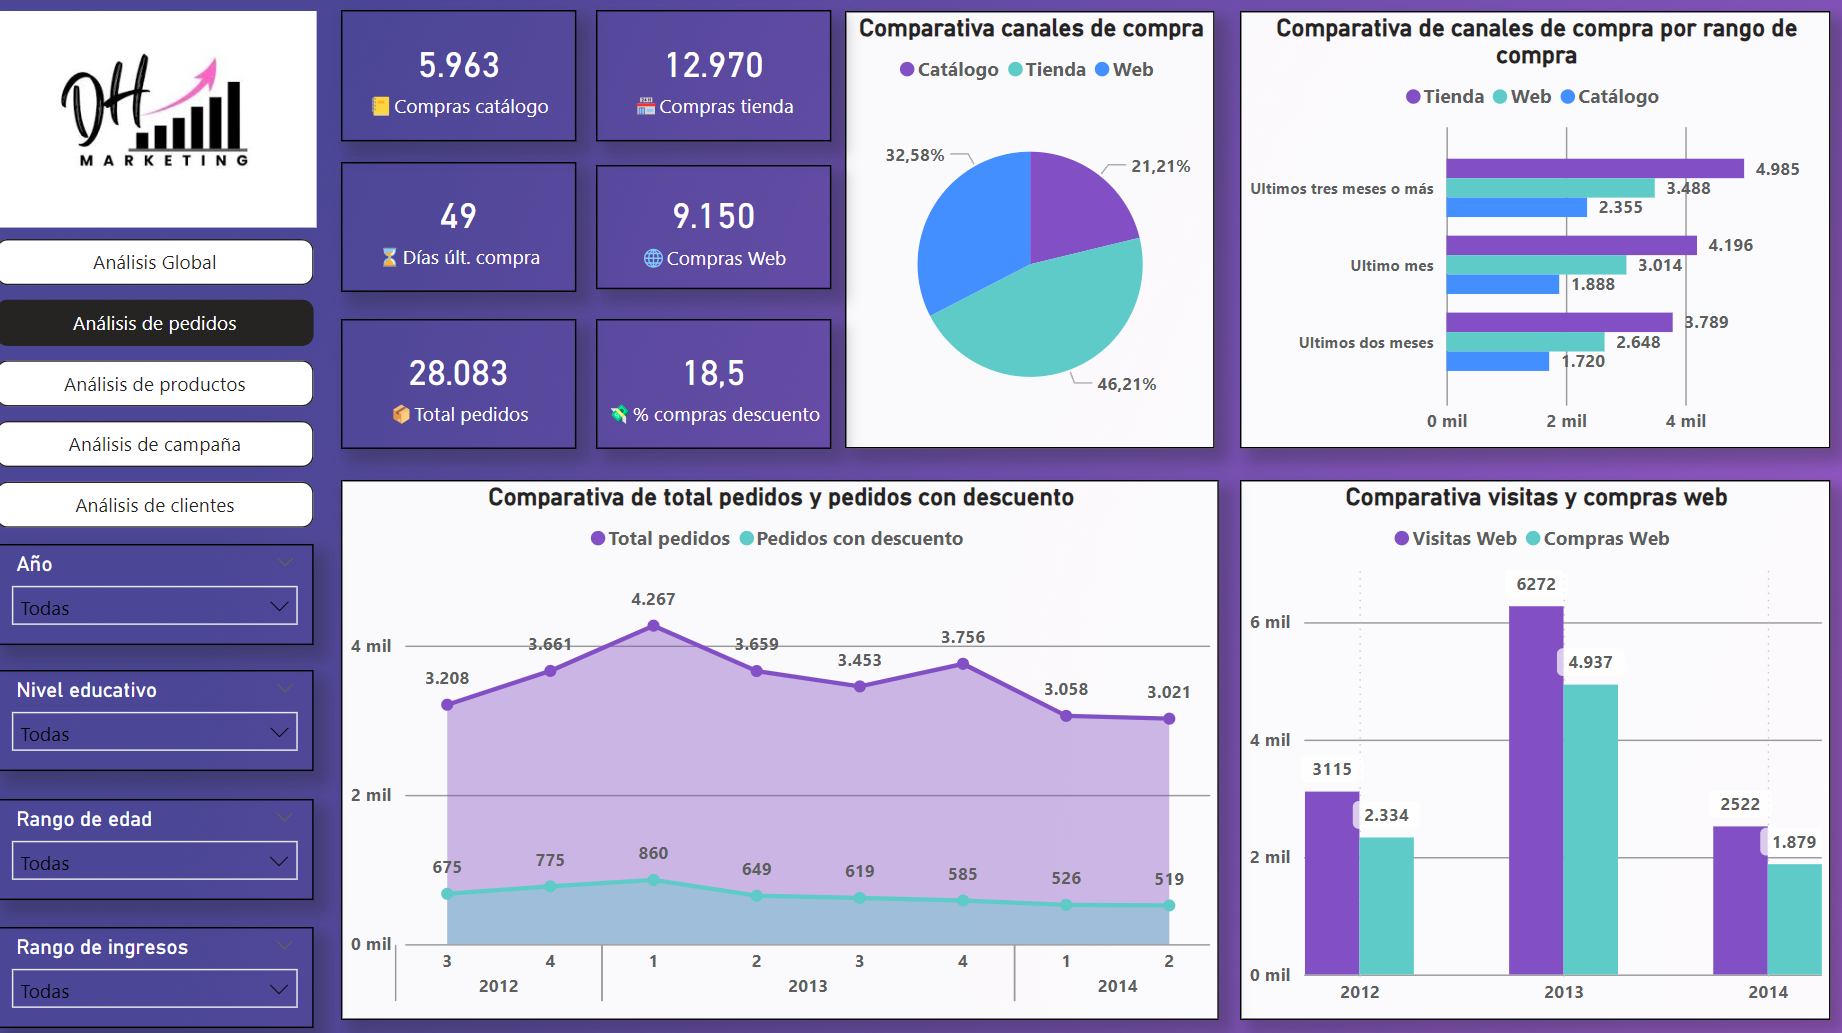

What the dashboard file says about the page in this screenshot:
{"tool":"powerbi","page":{"name":"Análisis de pedidos","canvas":[1280,720],"ordinal":1},"visuals":[{"type":"pieChart","title":"Comparativa canales de compra","fields":{"Y":["Sum(marketing_campaign.Compras_Catálogo)","Sum(marketing_campaign.Compras_Tienda)","Sum(marketing_campaign.Compras_Web)"]},"box":[588.1,10.1,256.5,303.2],"z":0},{"type":"card","fields":{"Values":["Sum(marketing_campaign.Compras_Catálogo)"]},"box":[238.9,10,162.6,90.7],"z":1000},{"type":"card","fields":{"Values":["DAX Medidas.Media días última compra"]},"box":[238.9,115,162.6,89.6],"z":2000},{"type":"card","fields":{"Values":["DAX Medidas.Total pedidos"]},"box":[238.9,223.4,162.6,89.6],"z":3000},{"type":"lineClusteredColumnComboChart","title":"Comparativa visitas y compras web","fields":{"Category":["Calendario.Año"],"Y":["Sum(marketing_campaign.Visitas_Web_Ultmes)","Sum(marketing_campaign.Compras_Web)"]},"box":[861.6,335.1,409.2,373.8],"z":4000},{"type":"lineChart","title":"Comparativa de total pedidos y pedidos con descuento","fields":{"Category":["Calendario.Año","Calendario.Trimestre"],"Y":["DAX Medidas.Total pedidos","Sum(marketing_campaign.Compras_Descuento)"]},"box":[238.9,335.1,608.3,373.8],"z":5000},{"type":"clusteredBarChart","title":"Comparativa de canales de compra por rango de compra","fields":{"Category":["D_Ult_Compra.Rango_Ult_Compra"],"Y":["Sum(marketing_campaign.Compras_Tienda)","Sum(marketing_campaign.Compras_Web)","Sum(marketing_campaign.Compras_Catálogo)"]},"box":[862,10.1,409.5,303.2],"z":6000},{"type":"image","box":[2.1,10.3,220,150],"z":7000},{"type":"slicer","fields":{"Values":["Calendario.Año"]},"box":[0,379.4,220.1,69.7],"z":8000},{"type":"slicer","fields":{"Values":["D_Ingresos.Rango_Ingresos"]},"box":[0,644.5,219.9,70.3],"z":9000},{"type":"slicer","fields":{"Values":["D_Edad.Rango_Edad"]},"box":[0,556.5,219.8,70.4],"z":10000},{"type":"pageNavigator","box":[0,168.1,220.1,200.2],"z":11000},{"type":"slicer","fields":{"Values":["D_Nivel_Estudios.Nivel_Estudios"]},"box":[0,466.7,220.1,69.7],"z":12000},{"type":"card","fields":{"Values":["Sum(marketing_campaign.Compras_Tienda)"]},"box":[415.9,10,162.6,90.7],"z":13000},{"type":"card","fields":{"Values":["DAX Medidas.% compras descuento"]},"box":[415.9,223.4,162.6,89.6],"z":14000},{"type":"card","fields":{"Values":["Sum(marketing_campaign.Compras_Web)"]},"box":[415.9,117.2,162.6,86.3],"z":15000}]}

Visuals, with their boxes in screenshot pixels (x1, y1, x2, y2), scaled from the page's 1280x720 canvas onto the 1842x1033 screenshot:
"Comparativa canales de compra" pieChart: left=846, top=14, right=1215, bottom=449
card - Sum(marketing_campaign.Compras_Catálogo): left=344, top=14, right=578, bottom=144
card - DAX Medidas.Media días última compra: left=344, top=165, right=578, bottom=294
card - DAX Medidas.Total pedidos: left=344, top=321, right=578, bottom=449
"Comparativa visitas y compras web" lineClusteredColumnComboChart: left=1240, top=481, right=1829, bottom=1017
"Comparativa de total pedidos y pedidos con descuento" lineChart: left=344, top=481, right=1219, bottom=1017
"Comparativa de canales de compra por rango de compra" clusteredBarChart: left=1240, top=14, right=1830, bottom=449
image: left=3, top=15, right=320, bottom=230
slicer - Calendario.Año: left=0, top=544, right=317, bottom=644
slicer - D_Ingresos.Rango_Ingresos: left=0, top=925, right=316, bottom=1026
slicer - D_Edad.Rango_Edad: left=0, top=798, right=316, bottom=899
pageNavigator: left=0, top=241, right=317, bottom=528
slicer - D_Nivel_Estudios.Nivel_Estudios: left=0, top=670, right=317, bottom=770
card - Sum(marketing_campaign.Compras_Tienda): left=599, top=14, right=832, bottom=144
card - DAX Medidas.% compras descuento: left=599, top=321, right=832, bottom=449
card - Sum(marketing_campaign.Compras_Web): left=599, top=168, right=832, bottom=292
